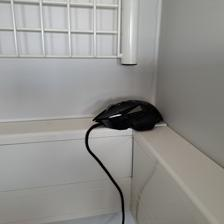mouse: (91, 98, 166, 132)
